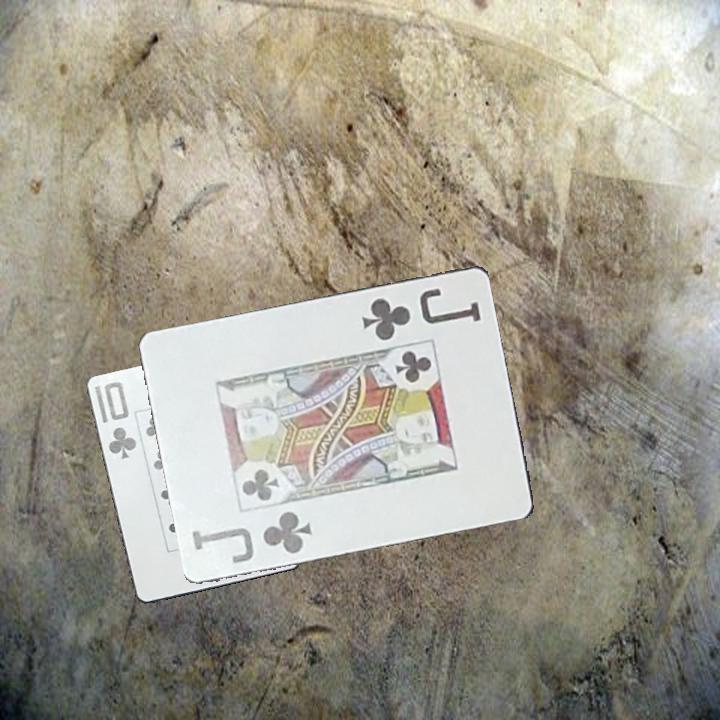Jc: (358, 283, 485, 344), (189, 507, 316, 566)
Tc: (91, 378, 140, 463)
